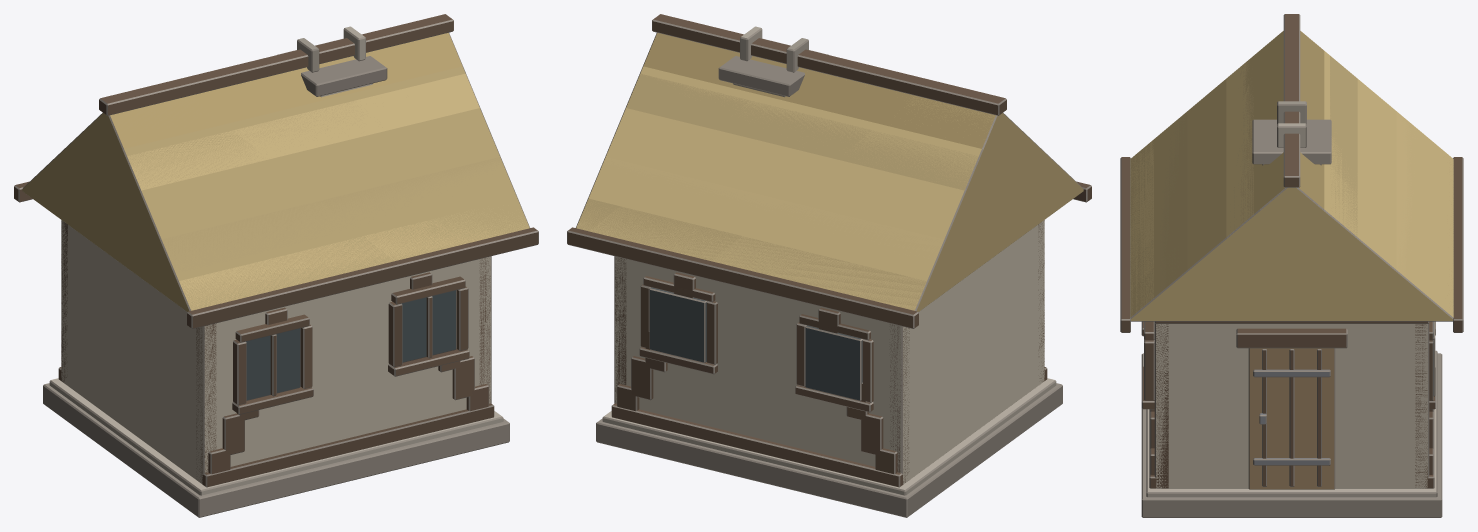
Rendered from SM_Kit_casa_h.fbx.
3 renders of one model, left to right at view 1: azimuth 30°, elevation 25°; view 2: azimuth 150°, elevation 25°; view 3: azimuth 270°, elevation 25°, orthographic. The views are drawn at different scales.
Parts seen in each view (by area): view 1: SM_Kit_casa_h; view 2: SM_Kit_casa_h; view 3: SM_Kit_casa_h.
Boxes of the visible parts, left/top/right/bottom form: SM_Kit_casa_h: left=14, top=14, right=538, bottom=517; SM_Kit_casa_h: left=567, top=14, right=1091, bottom=517; SM_Kit_casa_h: left=1120, top=14, right=1463, bottom=517.
Size of what is drawn, in the model's own units: 506 by 517 by 450.
